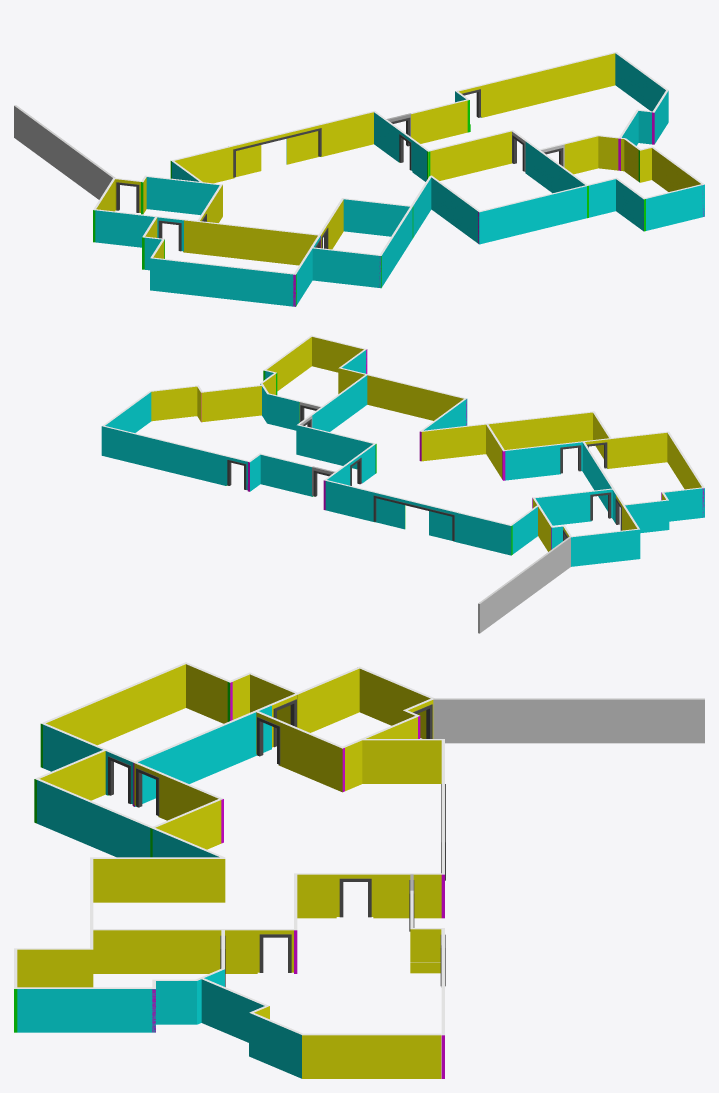
The model's file is NewestWalls.fbx.
3 renders of one model, top to bottom at view 1: azimuth 30°, elevation 25°; view 2: azimuth 150°, elevation 25°; view 3: azimuth 270°, elevation 25°, orthographic. The views are drawn at different scales.
Parts seen in each view (by area): view 1: new_wall_08, new_wall_13, new_wall_30, new_wall_26, new_wall_02, new_wall_34, new_wall_10, new_wall_28, new_wall_24, new_wall_15, new_wall_33, new_wall_11 (+24 smaller); view 2: new_wall_11, new_wall_30, new_wall_13, new_wall_02, new_wall_03, new_wall_34, new_wall_20, new_wall_32, new_wall_09, new_wall_25, new_wall_35, new_wall_33 (+17 smaller); view 3: new_wall_02, new_wall_35, new_wall_23, new_wall_16, new_wall_11, new_wall_12, new_wall_08, new_wall_26, new_wall_39, new_wall_14, new_wall_37, new_wall_27 (+15 smaller).
Boxes of the visible parts, bbox=[...] form: new_wall_08: bbox=[150, 257, 296, 306]; new_wall_13: bbox=[478, 178, 615, 244]; new_wall_30: bbox=[481, 52, 617, 117]; new_wall_26: bbox=[183, 219, 320, 265]; new_wall_02: bbox=[14, 105, 115, 199]; new_wall_34: bbox=[427, 130, 513, 180]; new_wall_10: bbox=[310, 247, 381, 288]; new_wall_28: bbox=[146, 176, 220, 215]; new_wall_24: bbox=[343, 198, 413, 238]; new_wall_15: bbox=[643, 184, 704, 230]; new_wall_33: bbox=[411, 99, 469, 143]; new_wall_11: bbox=[379, 176, 431, 287]; new_wall_11: bbox=[421, 411, 593, 461]; new_wall_30: bbox=[101, 425, 226, 485]; new_wall_13: bbox=[338, 367, 466, 425]; new_wall_02: bbox=[478, 536, 570, 633]; new_wall_03: bbox=[571, 528, 640, 566]; new_wall_34: bbox=[296, 424, 376, 473]; new_wall_20: bbox=[201, 384, 263, 422]; new_wall_32: bbox=[453, 512, 512, 555]; new_wall_09: bbox=[607, 431, 667, 468]; new_wall_25: bbox=[502, 443, 560, 480]; new_wall_35: bbox=[310, 374, 367, 431]; new_wall_33: bbox=[260, 454, 313, 496]; new_wall_02: bbox=[433, 698, 704, 743]; new_wall_35: bbox=[91, 929, 257, 973]; new_wall_23: bbox=[302, 1033, 441, 1078]; new_wall_16: bbox=[17, 987, 155, 1032]; new_wall_11: bbox=[35, 778, 224, 858]; new_wall_12: bbox=[90, 857, 225, 902]; new_wall_08: bbox=[40, 662, 186, 767]; new_wall_26: bbox=[132, 705, 271, 806]; new_wall_39: bbox=[362, 739, 441, 783]; new_wall_14: bbox=[14, 948, 93, 987]; new_wall_37: bbox=[373, 873, 444, 918]; new_wall_27: bbox=[278, 720, 344, 792].
Size of the model in its own units: 6063 by 332 by 4745.
